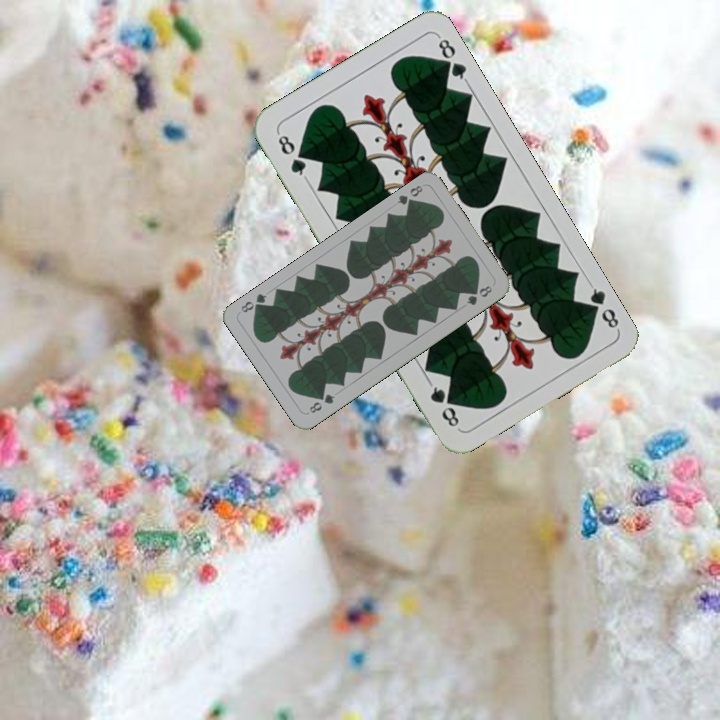G8: (581, 279, 622, 333), (273, 129, 310, 182), (393, 181, 425, 210), (305, 390, 338, 416)
